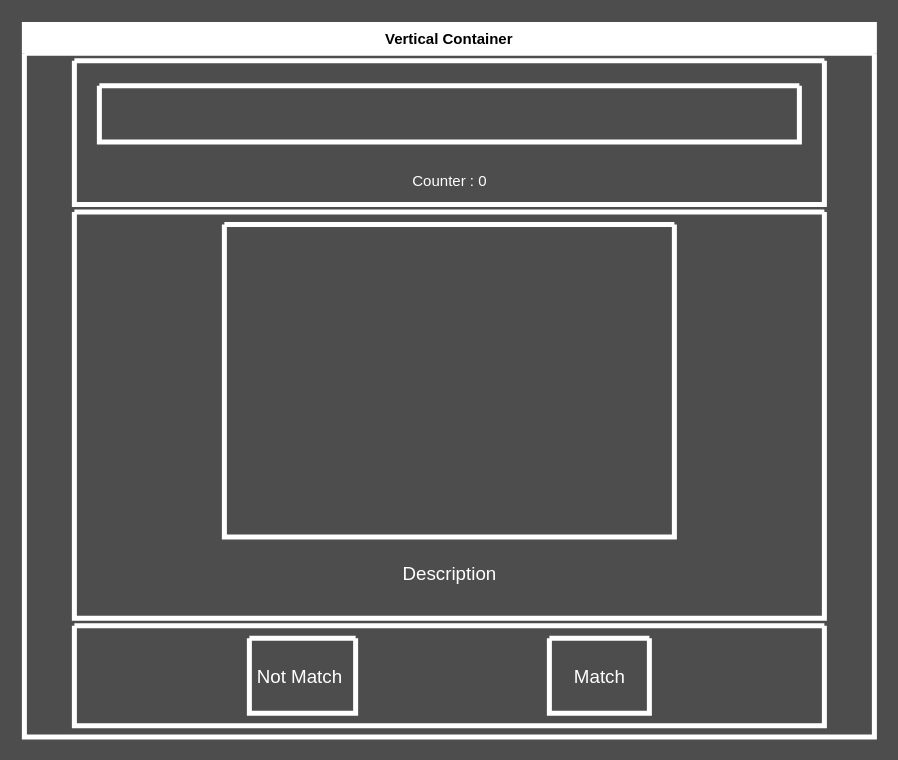
Image size: 898x760. Some labels were removed from this diagram. Each missing label, with the centre of its shape:
"Image" belongs at (448,380).
"Matching App" belongs at (448,113).
